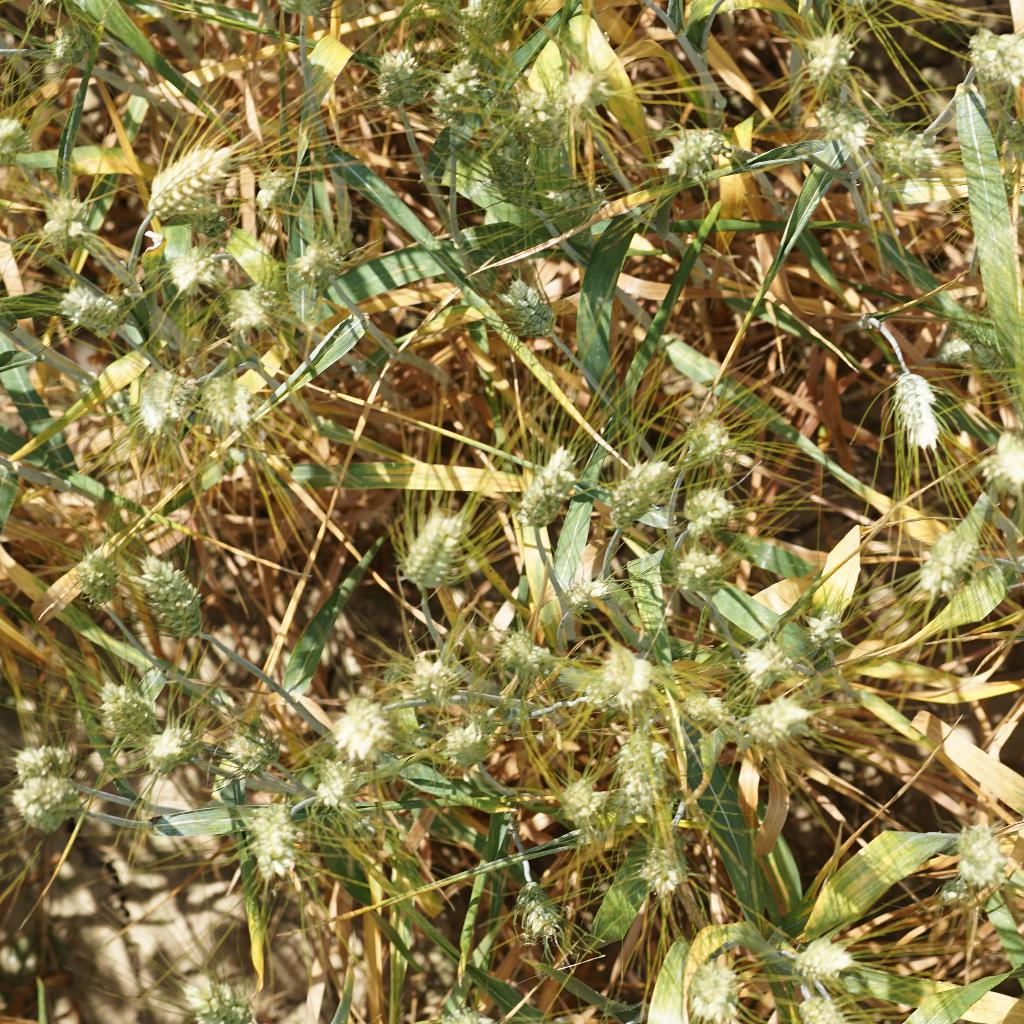0-0: (385, 485, 482, 604), (227, 791, 310, 901), (647, 104, 748, 194), (467, 107, 546, 219), (129, 142, 236, 219), (421, 51, 500, 152), (137, 546, 212, 650), (873, 354, 948, 452), (609, 725, 683, 821), (934, 806, 1008, 893), (869, 120, 963, 185), (195, 714, 273, 792), (294, 761, 367, 840), (508, 448, 583, 524), (952, 19, 1024, 96), (9, 776, 93, 842), (62, 544, 133, 621), (742, 690, 826, 754), (318, 690, 396, 758), (658, 397, 737, 464), (486, 279, 560, 350), (773, 925, 859, 986), (600, 449, 666, 527), (129, 361, 193, 441), (632, 834, 705, 904), (48, 283, 134, 342), (668, 537, 750, 598), (799, 17, 871, 86), (536, 172, 620, 231), (591, 641, 660, 712), (549, 766, 609, 847), (677, 955, 746, 1024), (92, 681, 161, 748), (501, 78, 574, 141), (725, 634, 802, 691), (186, 367, 249, 436), (425, 705, 494, 768), (509, 874, 567, 946), (672, 481, 744, 539), (216, 280, 280, 344), (550, 567, 621, 624), (808, 98, 881, 153), (187, 975, 268, 1024), (978, 419, 1024, 503), (443, 0, 511, 56), (291, 234, 350, 298), (39, 12, 98, 75), (367, 45, 423, 111), (163, 239, 230, 294), (492, 623, 552, 684), (914, 539, 970, 604), (36, 197, 97, 256), (396, 641, 458, 698), (249, 168, 305, 228), (780, 982, 860, 1024), (799, 591, 849, 657), (541, 64, 608, 111), (676, 679, 732, 733), (9, 739, 80, 781), (137, 727, 197, 776)
